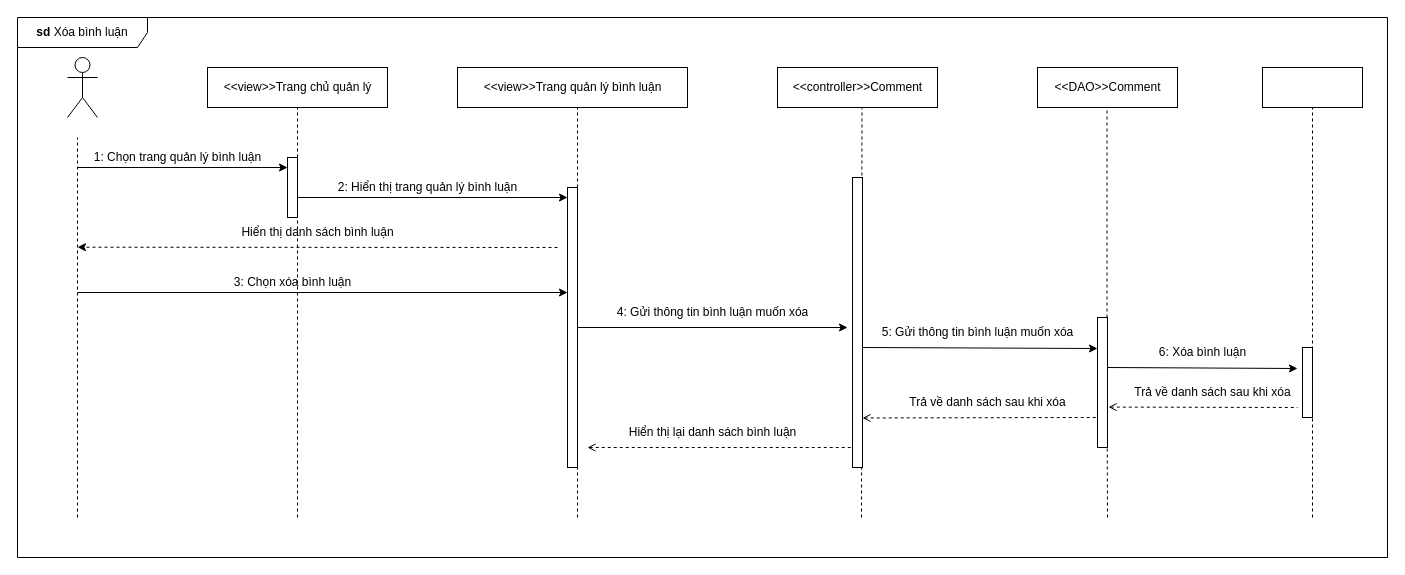
Some shapes in this 1405 by 575 pixel diagram are drawn without their labels. Each missing label, with the box of its shape:
Database: (1262, 66, 1362, 108)
Quản lý: (66, 56, 98, 118)
